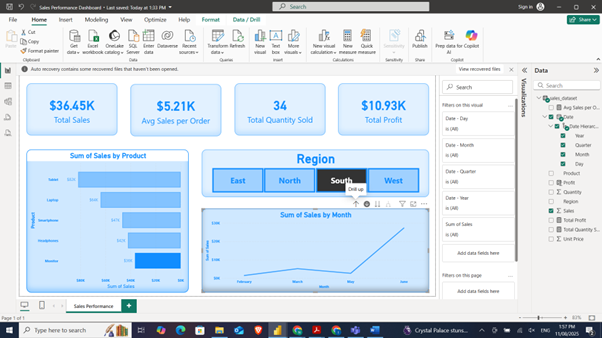

What the dashboard file says about the page in this screenshot:
{"tool":"powerbi","page":{"name":"Sales Performance","canvas":[1280,720],"ordinal":0},"visuals":[{"type":"card","fields":{"Values":["Sum(sales_dataset.Sales)"]},"box":[22,64.5,280,160.5],"z":0},{"type":"clusteredBarChart","fields":{"Category":["sales_dataset.Product"],"Y":["Sum(sales_dataset.Sales)"]},"box":[22,267.6,499.5,441.9],"z":1000},{"type":"slicer","title":"Region","fields":{"Values":["sales_dataset.Region"]},"box":[561.2,267.6,699.8,146.8],"z":2000},{"type":"lineChart","fields":{"Category":["sales_dataset.Date.Variation.Date Hierarchy.Year","sales_dataset.Date.Variation.Date Hierarchy.Quarter","sales_dataset.Date.Variation.Date Hierarchy.Month","sales_dataset.Date.Variation.Date Hierarchy.Day"],"Y":["Sum(sales_dataset.Sales)"]},"box":[561.2,450.1,699.8,259.3],"z":3000},{"type":"card","fields":{"Values":["sales_dataset.Avg Sales per Order"]},"box":[341.7,65.9,279.9,160.5],"z":4000},{"type":"card","fields":{"Values":["sales_dataset.Total Quantity Sold"]},"box":[662.8,64.5,279.9,160.5],"z":5000},{"type":"card","fields":{"Values":["sales_dataset.Total Profit"]},"box":[981.1,64.5,279.9,160.5],"z":6000}]}

Visuals, with their boxes on the page's 1280x720 design canvas (x1, y1, x2, y2). These are canvas units, not pixel positions in the 602x338 screenshot, which may show the page scaled, cropped or inside an application window:
card - Sum(sales_dataset.Sales): bbox(22, 64, 302, 225)
clusteredBarChart - sales_dataset.Product x Sum(sales_dataset.Sales): bbox(22, 268, 522, 710)
"Region" slicer: bbox(561, 268, 1261, 414)
lineChart - sales_dataset.Date.Variation.Date Hierarchy.Year x sales_dataset.Date.Variation.Date Hierarchy.Quarter: bbox(561, 450, 1261, 709)
card - sales_dataset.Avg Sales per Order: bbox(342, 66, 622, 226)
card - sales_dataset.Total Quantity Sold: bbox(663, 64, 943, 225)
card - sales_dataset.Total Profit: bbox(981, 64, 1261, 225)
